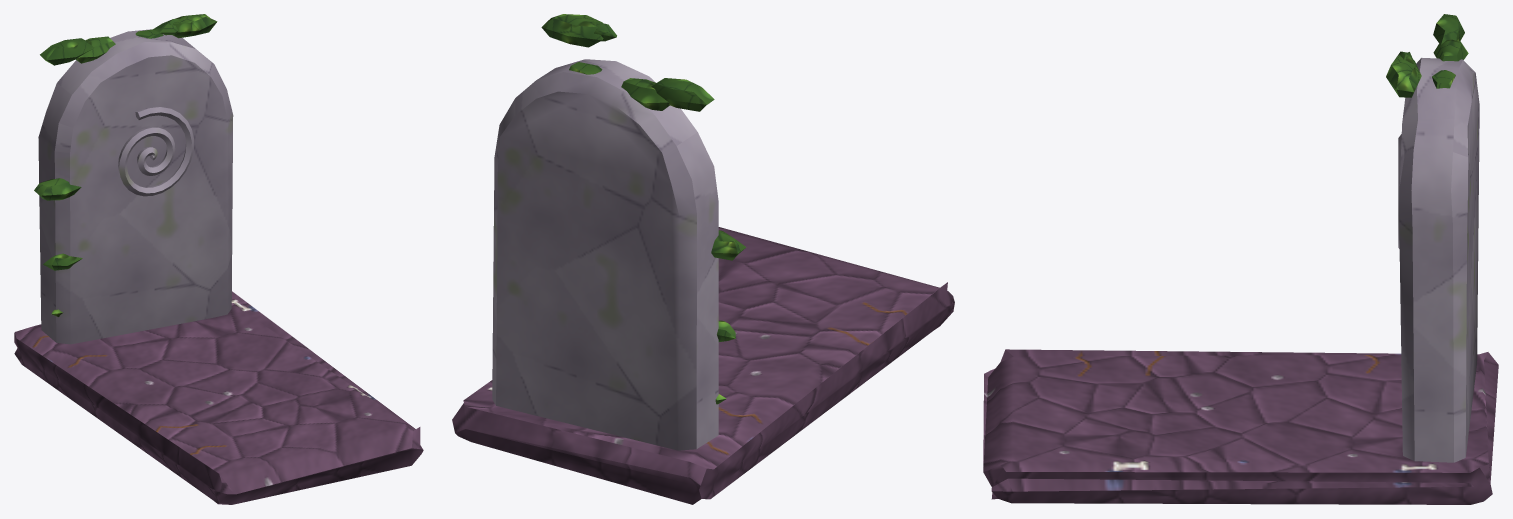
File: gravestone_spiral.gltf
3 renders of one model, left to right at view 1: azimuth 30°, elevation 25°; view 2: azimuth 150°, elevation 25°; view 3: azimuth 270°, elevation 25°, orthographic. The views are drawn at different scales.
Visible parts, largest first — view 1: gravestone_spiral_mesh; view 2: gravestone_spiral_mesh; view 3: gravestone_spiral_mesh.
Part boxes in pixels (box(x1,y1,x2,y2)): gravestone_spiral_mesh: box(14, 14, 423, 504); gravestone_spiral_mesh: box(452, 14, 954, 504); gravestone_spiral_mesh: box(983, 14, 1498, 504).
Size of what is drawn, in the model's own units: 0.8141 by 1.25 by 1.43.
3 materials, 3 textured.
